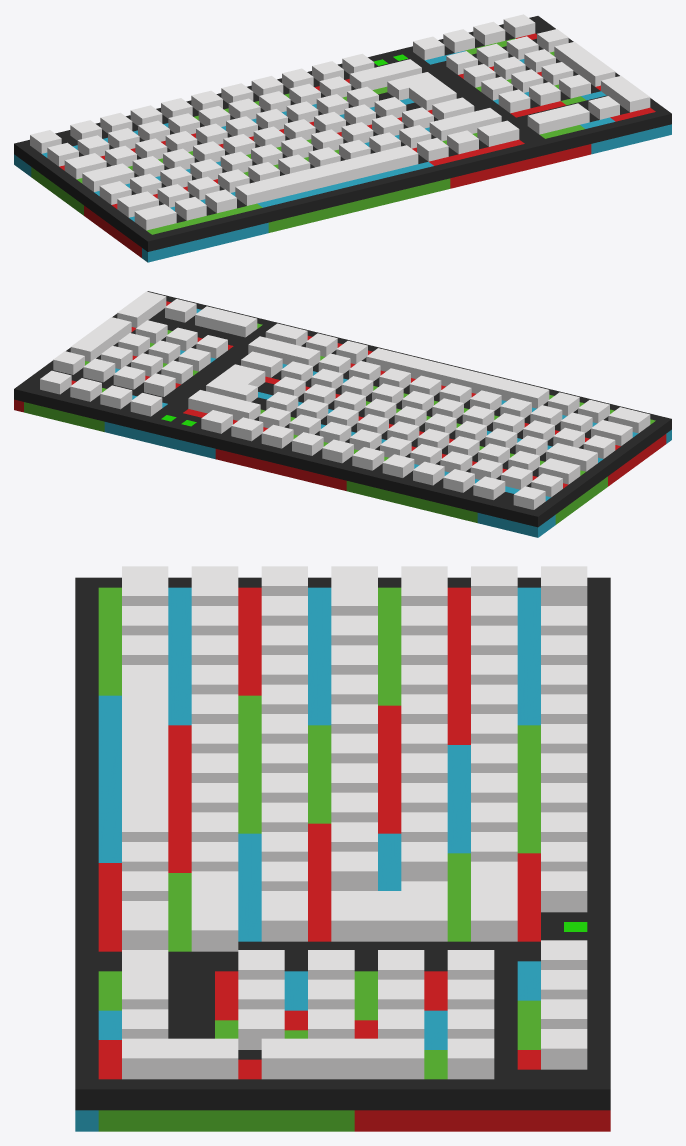
The model's file is Keyboard_0.obj.
3 views of the same model, one above another, from view 1: azimuth 30°, elevation 25°; view 2: azimuth 150°, elevation 25°; view 3: azimuth 270°, elevation 25° (orthographic). The views are drawn at different scales.
Size of the model in its own units: 5.2 by 0.3 by 2.3.
Materials: 1 (1 with a texture image).
